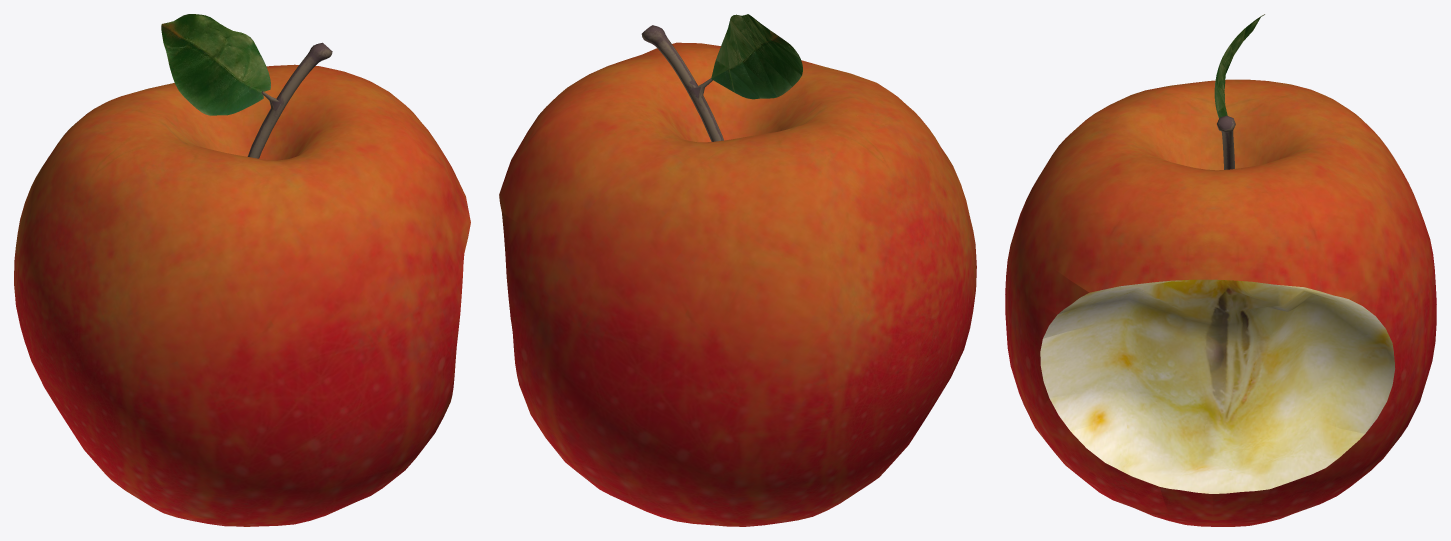
The model's file is Apple-with-bite-EMBED.gltf.
3 renders of one model, left to right at view 1: azimuth 30°, elevation 25°; view 2: azimuth 150°, elevation 25°; view 3: azimuth 270°, elevation 25°, orthographic. The views are drawn at different scales.
Visible parts, largest first — view 1: Apple; view 2: Apple; view 3: Apple.
Part boxes in pixels (x1=…): Apple: x1=14, y1=14, x2=470, y2=526; Apple: x1=499, y1=14, x2=976, y2=526; Apple: x1=1005, y1=14, x2=1436, y2=526.
Size of the model in its own units: 1.48 by 1.81 by 1.53.
1 material, 1 textured.
